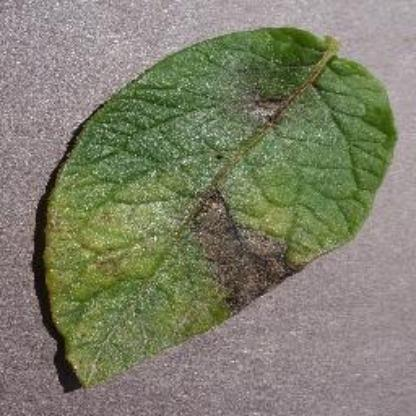Late-Blight: (34, 30, 408, 386)
